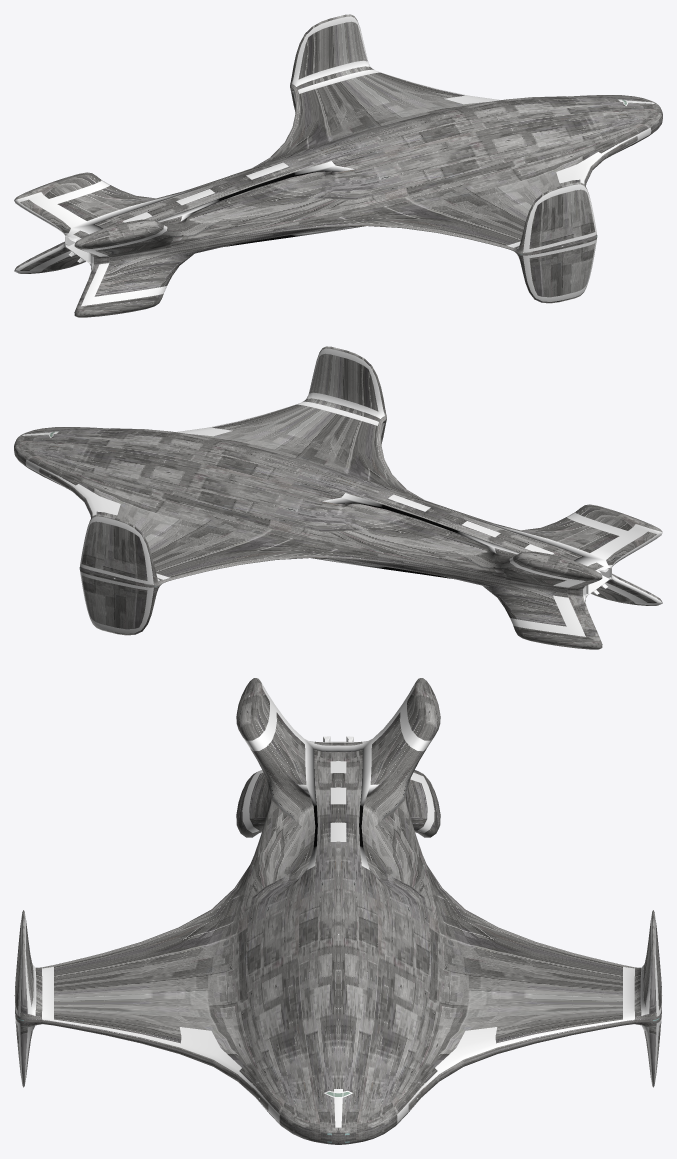
File: Eriax_Destroyer.FBX
3 renders of one model, top to bottom at view 1: azimuth 30°, elevation 25°; view 2: azimuth 150°, elevation 25°; view 3: azimuth 270°, elevation 25°, orthographic. The views are drawn at different scales.
Visible parts, largest first — view 1: Box01; view 2: Box01; view 3: Box01.
Boxes of the visible parts, x1,y1,x2,y2 form: Box01: (14,14,662,317); Box01: (14,346,662,649); Box01: (15,678,661,1144).
Bounding box in the file's own units: 355 × 64.1 × 237.
6 materials, 1 textured.
